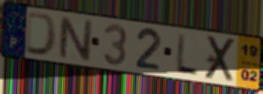2: (134, 26, 163, 75)
3: (102, 22, 129, 67)
D: (24, 10, 59, 58)
L: (174, 32, 201, 78)
N: (58, 14, 93, 64)
X: (203, 35, 239, 84)
